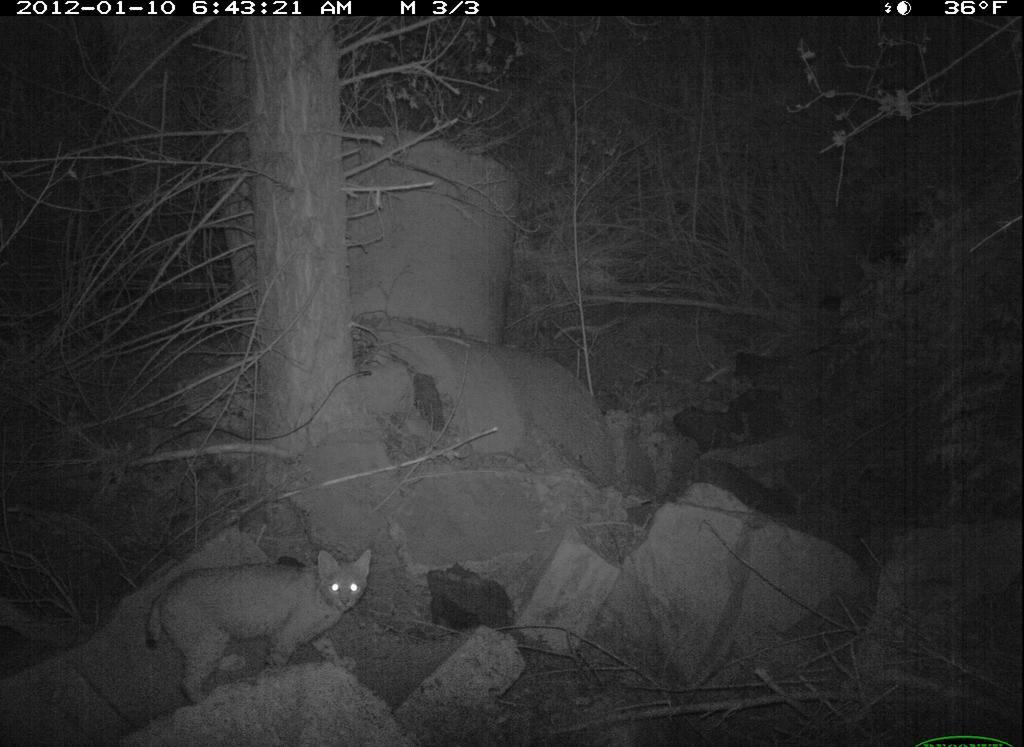bobcat: (145, 550, 379, 703)
